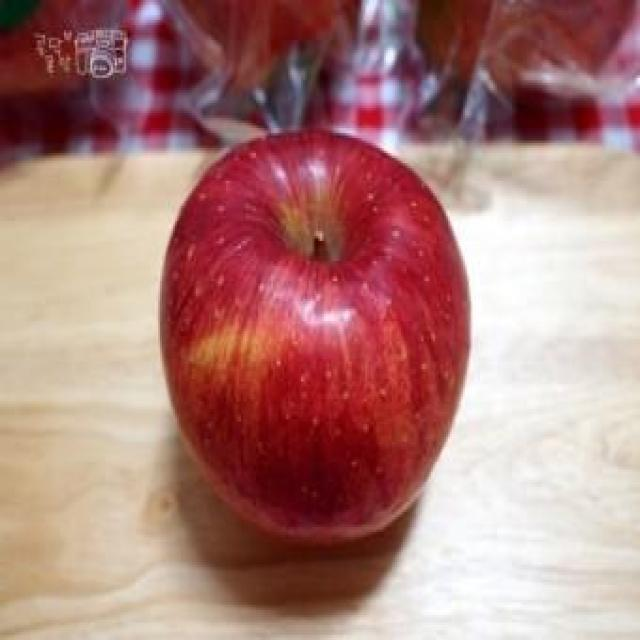apple: (156, 125, 472, 548)
